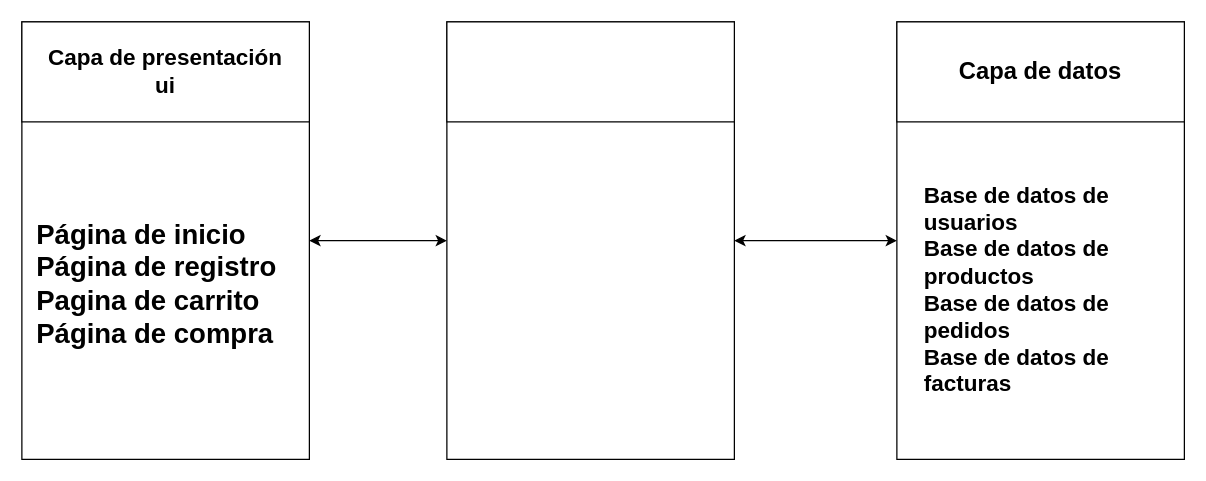
The diagram is 1206 pixels wide and 481 high, and some of its shapes have lost their labels. The shapes that lost their labels are listed below. From the top down, each one's centre as x and y in pixels, then its label:
(590,71): Capa de lógica de negocios
(590,240): Controlador de usuarios Controlador de productos Controlador de compras
